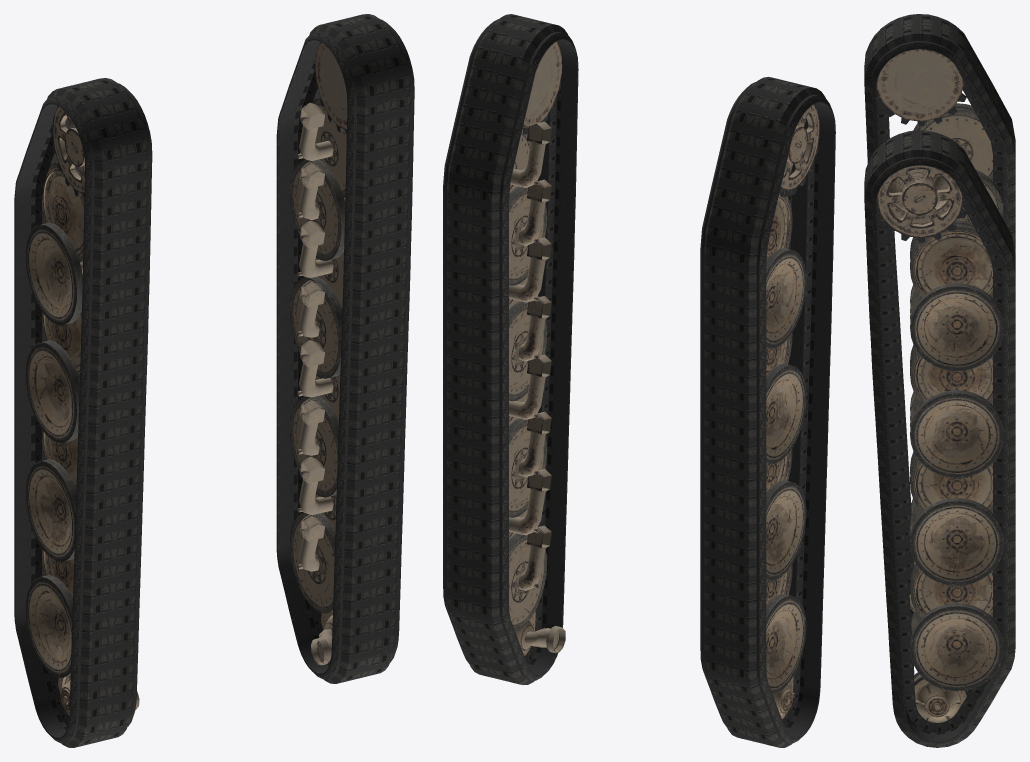
Rendered from Chassis.glb.
The picture shows the model from 3 angles, left to right: view 1: azimuth 30°, elevation 25°; view 2: azimuth 150°, elevation 25°; view 3: azimuth 270°, elevation 25°; orthographic projection. The views are drawn at different scales.
Visible parts, largest first — view 1: set_0_group_0, set_1_group_0, set_3_group_0, set_2_group_0; view 2: set_0_group_0, set_1_group_0, set_3_group_0, set_2_group_0; view 3: set_3_group_0, set_1_group_0, set_0_group_0, set_2_group_0.
Boxes of the visible parts, left/top/right/bottom form: set_0_group_0: left=14, top=78, right=152, bottom=747; set_1_group_0: left=276, top=14, right=414, bottom=683; set_3_group_0: left=290, top=42, right=347, bottom=665; set_2_group_0: left=25, top=106, right=139, bottom=715; set_0_group_0: left=700, top=77, right=835, bottom=747; set_1_group_0: left=443, top=14, right=578, bottom=684; set_3_group_0: left=509, top=41, right=565, bottom=655; set_2_group_0: left=766, top=104, right=819, bottom=719; set_3_group_0: left=876, top=165, right=1003, bottom=722; set_1_group_0: left=864, top=130, right=1015, bottom=747; set_0_group_0: left=864, top=14, right=1015, bottom=619; set_2_group_0: left=876, top=49, right=1003, bottom=611.
Size of the model in its own units: 3.28 by 6.28 by 1.44.
Materials: 4 (4 with a texture image).
